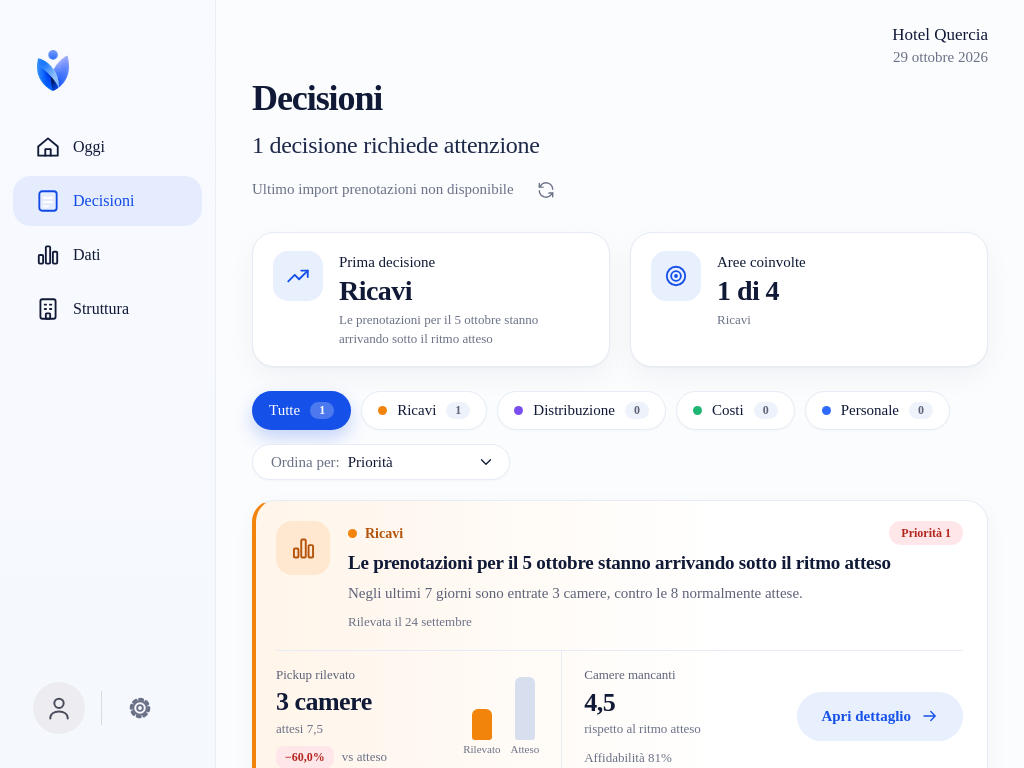
it: /decisioni - filter by area › an area with no decision says what the run knows: analysed and clear...
Expected: the number of links named "Apri dettaglio: " is 1, 797,692 -> 963,741
Click the button with aria-label "Costi, 0 decisioni".
click(735, 411)  # box 676,391 -> 795,430
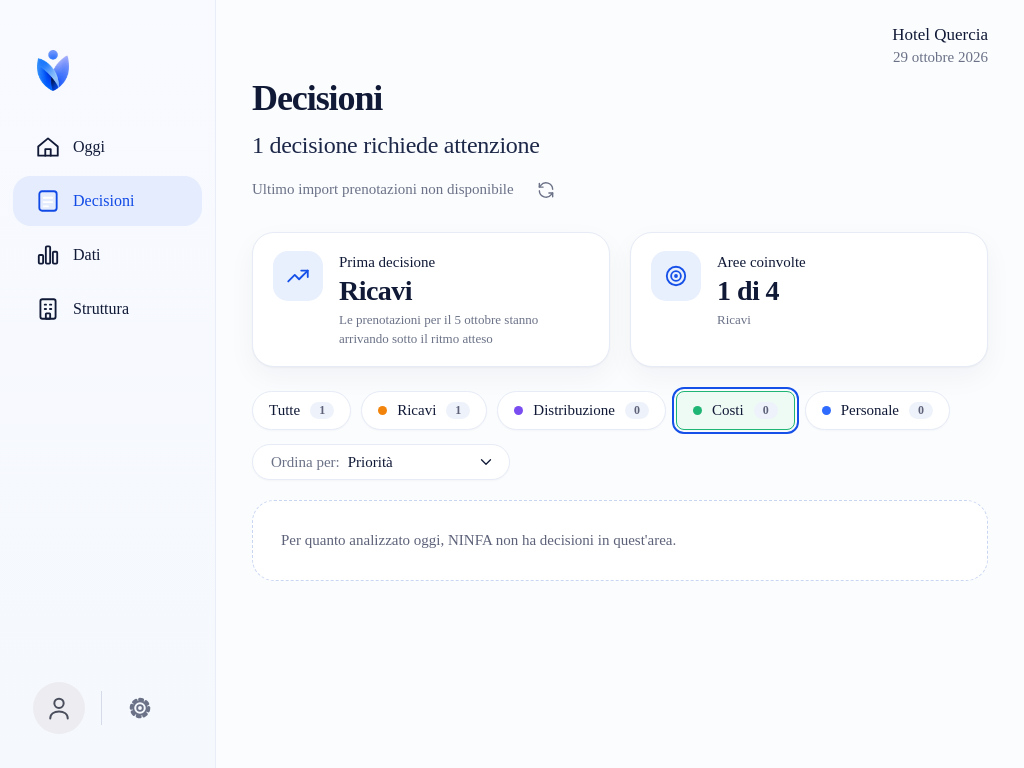
Expected: the message reads "Per quanto analizzato oggi, NINFA non ha decisioni in quest'area.", 281,532 -> 676,548
